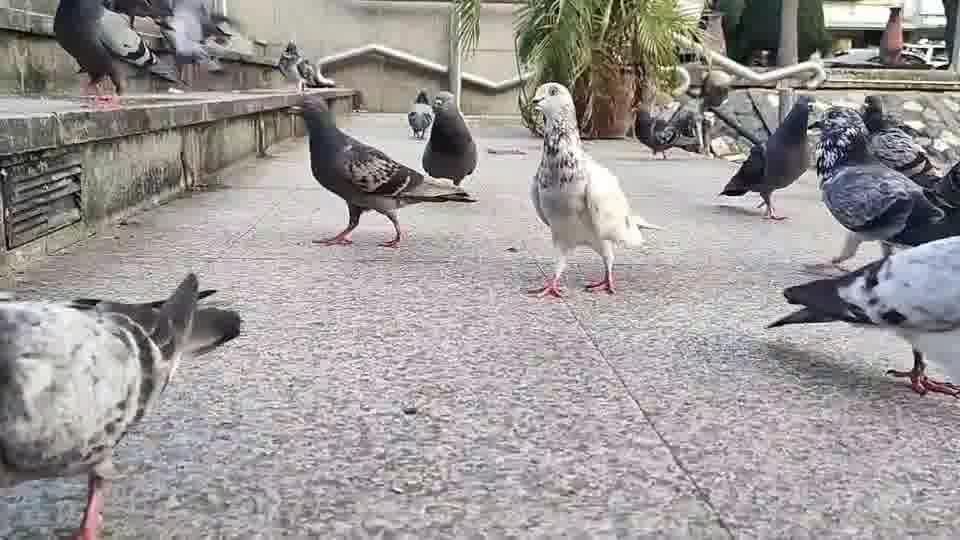Pigeon: (0, 271, 241, 538), (763, 233, 959, 399), (525, 81, 665, 299), (286, 91, 479, 248), (808, 104, 945, 271), (52, 0, 177, 103), (714, 93, 814, 221), (859, 94, 939, 185), (420, 91, 478, 186), (631, 100, 701, 160), (272, 39, 336, 92), (406, 87, 432, 139)
